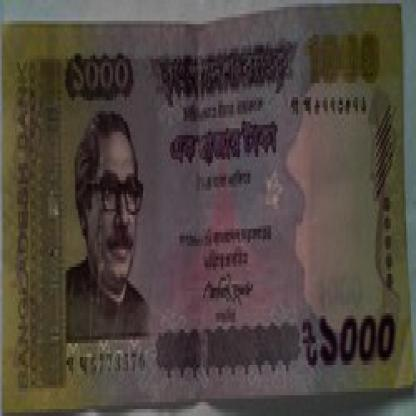One Thousand taka: (300, 312, 401, 371), (301, 31, 383, 87), (66, 56, 132, 97)
